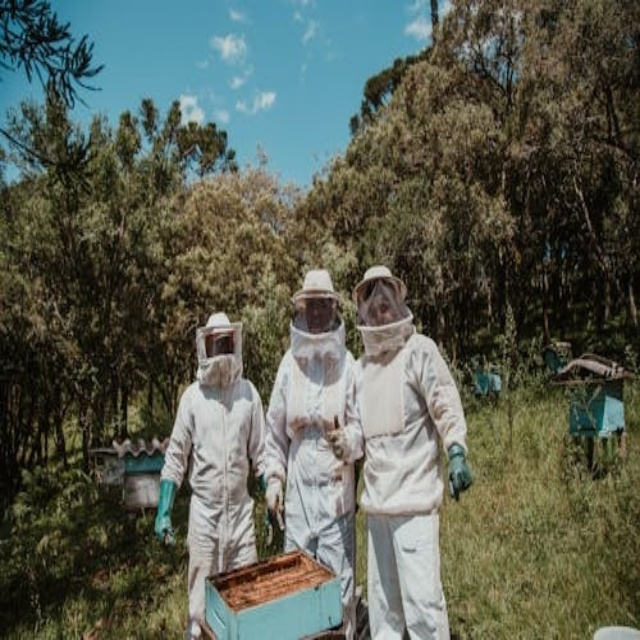Guantes: (323, 407, 366, 465), (148, 467, 182, 540), (439, 440, 474, 502), (259, 469, 284, 515)
